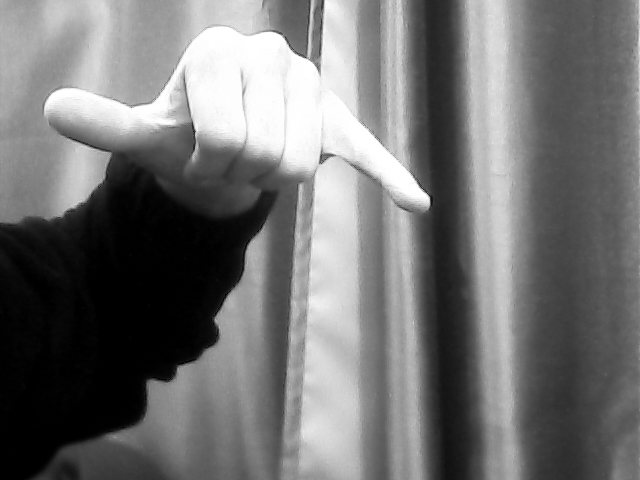aloha: (44, 22, 439, 226)
